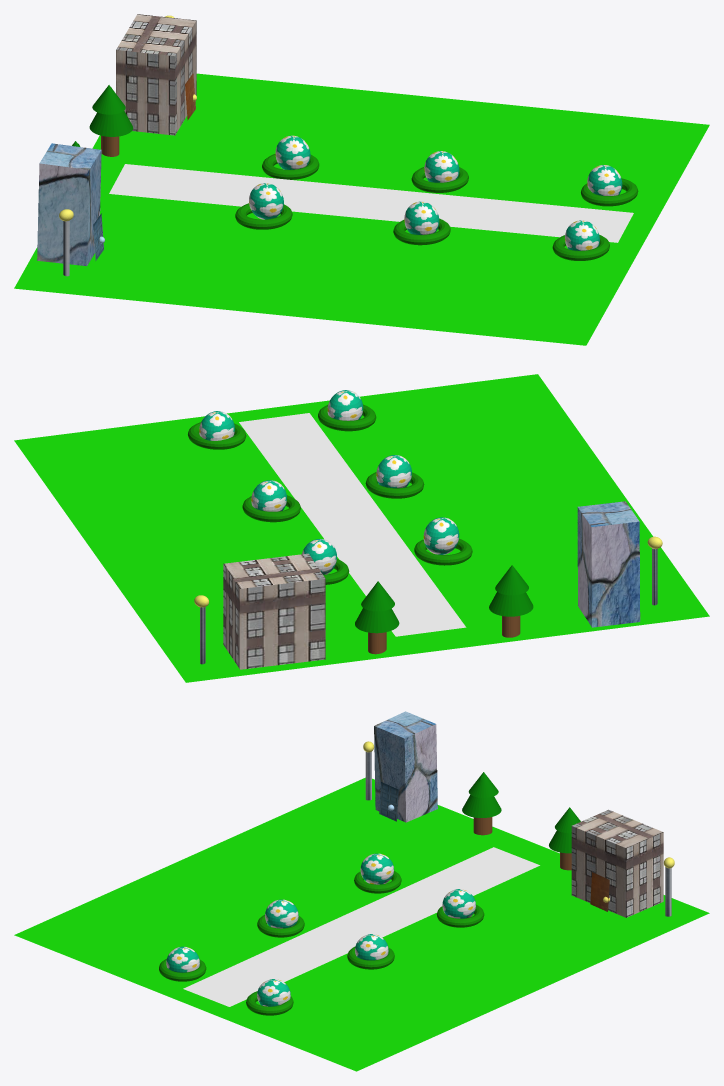
Rendered from City.glb.
3 views of the same model, one above another, from view 1: azimuth 30°, elevation 25°; view 2: azimuth 150°, elevation 25°; view 3: azimuth 270°, elevation 25° (orthographic). The views are drawn at different scales.
Visible parts, largest first — view 1: Plane.004, Plane.001, Cube.001, Cube, Sphere.007, Sphere.004, Sphere.005, Sphere.003, Sphere.006, Sphere.002, Cone.003, Torus.005 (+6 smaller); view 2: Plane.004, Plane.001, Cube.001, Cube, Sphere.007, Sphere.005, Sphere.003, Sphere.002, Sphere.006, Cone.003, Cone.002, Torus.005 (+7 smaller); view 3: Plane.004, Plane.001, Cube.001, Cube, Sphere.007, Sphere.004, Sphere.005, Sphere.006, Sphere.003, Sphere.002, Cone.002, Plane.002 (+3 smaller).
Boxes of the visible parts, x1,y1,x2,y2 form: Plane.004: (14, 73, 709, 345); Plane.001: (109, 164, 633, 242); Cube.001: (116, 14, 196, 135); Cube: (37, 143, 101, 266); Sphere.007: (249, 183, 283, 219); Sphere.004: (275, 135, 310, 169); Sphere.005: (404, 201, 439, 234); Sphere.003: (424, 151, 459, 182); Sphere.006: (587, 165, 622, 195); Sphere.002: (565, 220, 599, 250); Cone.003: (89, 87, 133, 136); Torus.005: (235, 203, 292, 229); Plane.004: (14, 374, 709, 682); Plane.001: (239, 413, 466, 636); Cube.001: (223, 553, 325, 669); Cube: (577, 501, 640, 627); Sphere.007: (423, 517, 459, 554); Sphere.005: (376, 455, 411, 488); Sphere.003: (251, 480, 286, 511); Sphere.002: (327, 390, 363, 420); Sphere.006: (199, 411, 234, 440); Cone.003: (355, 608, 399, 633); Cone.002: (489, 592, 533, 616); Torus.005: (414, 538, 472, 565); Plane.004: (14, 777, 709, 1071); Plane.001: (183, 847, 539, 1006); Cube.001: (571, 809, 663, 917); Cube: (374, 711, 437, 822); Sphere.007: (360, 853, 394, 884); Sphere.004: (442, 889, 475, 918); Sphere.005: (265, 899, 298, 928); Sphere.006: (257, 979, 290, 1006); Sphere.003: (355, 934, 388, 960); Sphere.002: (166, 946, 199, 972); Cone.002: (462, 775, 501, 817); Plane.002: (590, 872, 609, 911).
Bounding box in the file's own units: 9.65 × 1.37 × 9.63.
Materials: 33 (12 with a texture image).
